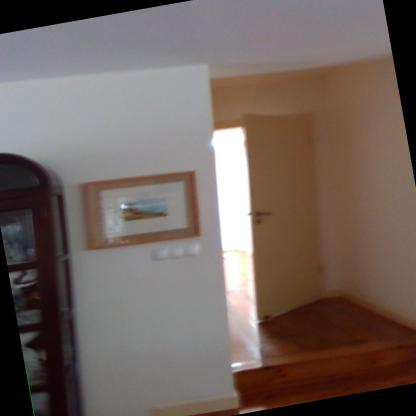semi: (202, 100, 346, 334)
